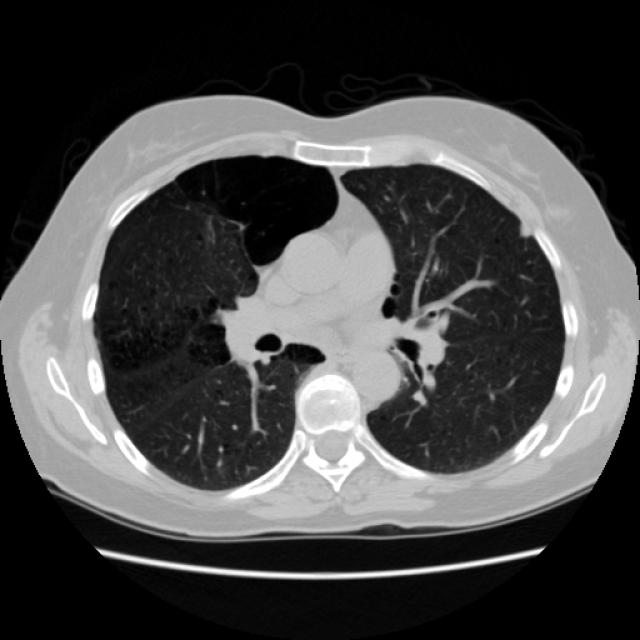nodule: (509, 216, 536, 244)
